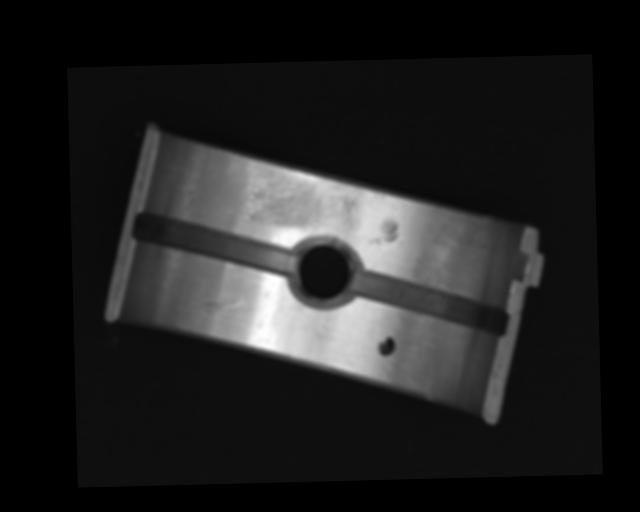blot: (376, 336, 396, 356)
bruise: (366, 217, 400, 246), (371, 188, 386, 201)
gap: (353, 265, 508, 341), (134, 208, 295, 278)
hole: (287, 234, 360, 310)
nick: (199, 297, 254, 314)
scratch: (240, 166, 364, 237)
